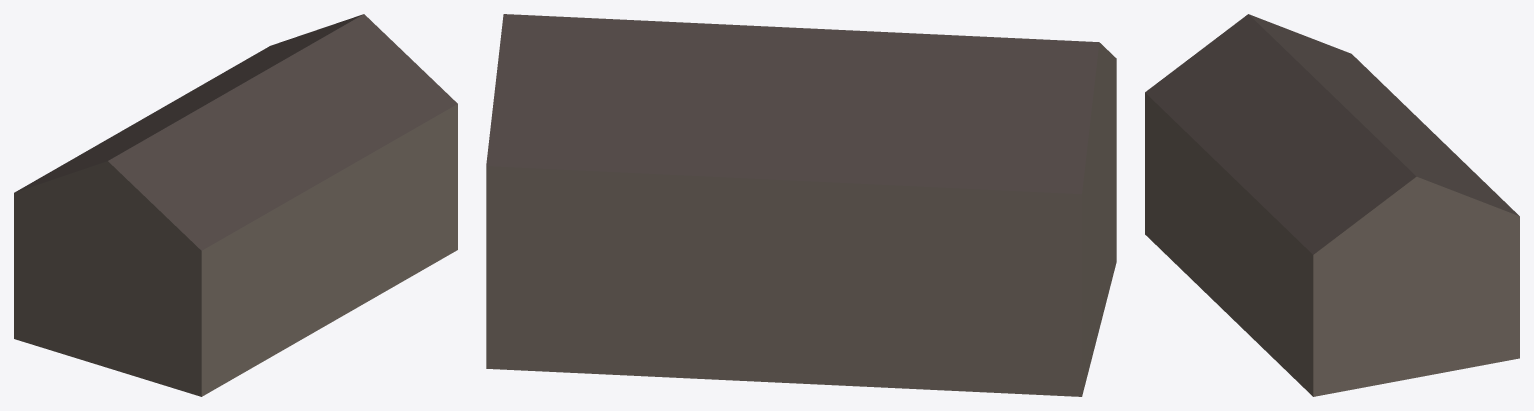
The picture shows the model from 3 angles, left to right: view 1: azimuth 30°, elevation 25°; view 2: azimuth 150°, elevation 25°; view 3: azimuth 270°, elevation 25°; orthographic projection. The views are drawn at different scales.
Visible parts, largest first — view 1: HP-w859447956; view 2: HP-w859447956; view 3: HP-w859447956.
Boxes of the visible parts, box(x1,y1,x2,y2) form: HP-w859447956: box(14, 14, 457, 396); HP-w859447956: box(486, 14, 1116, 396); HP-w859447956: box(1145, 14, 1519, 396).
Bounding box in the file's own units: 27.35 × 12.75 × 21.54.
